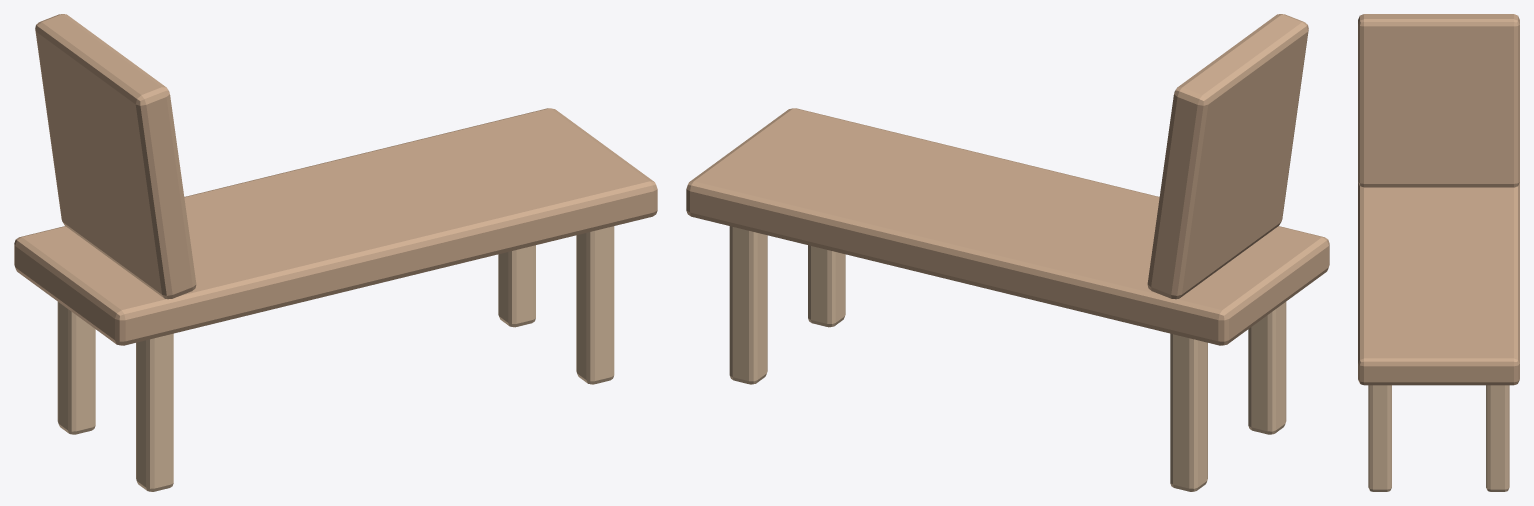
Rendered from kit_bench.glb.
3 views of the same model, side by side, from view 1: azimuth 30°, elevation 25°; view 2: azimuth 150°, elevation 25°; view 3: azimuth 270°, elevation 25° (orthographic). The views are drawn at different scales.
Visible parts, largest first — view 1: kit_bench.001; view 2: kit_bench.001; view 3: kit_bench.001.
Boxes of the visible parts, bbox=[...] form: kit_bench.001: bbox=[14, 14, 657, 491]; kit_bench.001: bbox=[686, 14, 1329, 491]; kit_bench.001: bbox=[1358, 14, 1519, 491].
Size of the model in its own units: 1.6 by 1.15 by 0.55.
